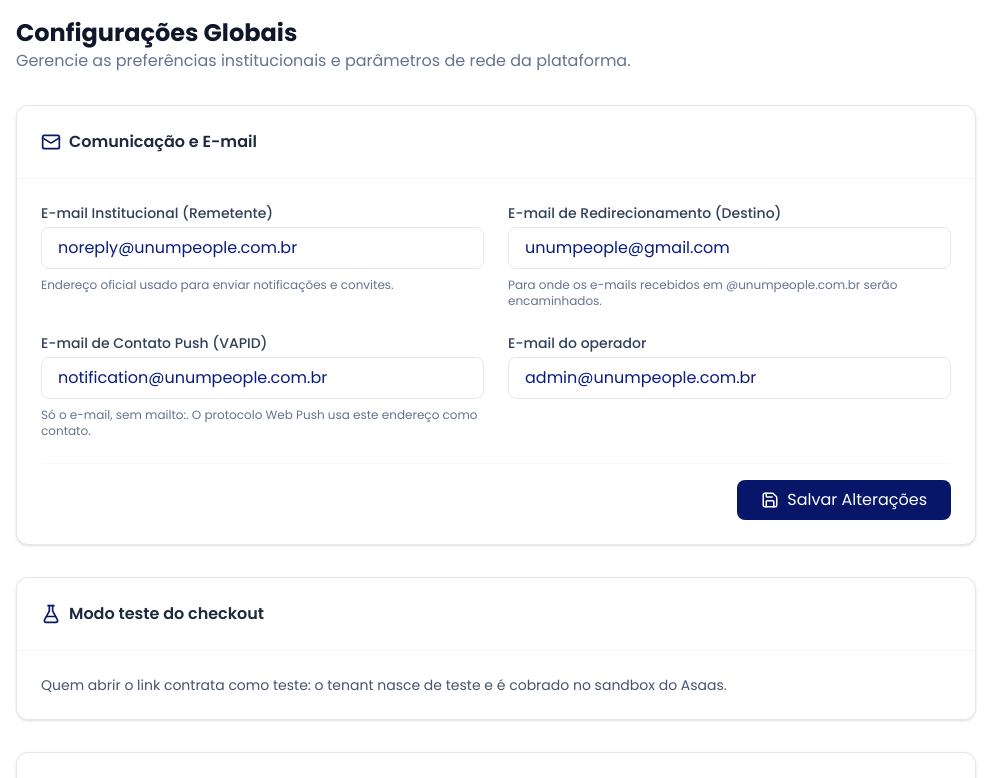
Test: SettingsPage - E-mail de contato push (VAPID) › recusa valor com mailto: com erro acessível e não salva
Expected: the heading "Configurações Globais" is shown, [16,16,297,49]
Type "mailto:outro@unumpeople.com.br" into the field labelled "E-mail de Contato Push (VAPID)".
click(262, 378); type("mailto:outro@unumpeople.com.br")  # box [41,357,484,399]
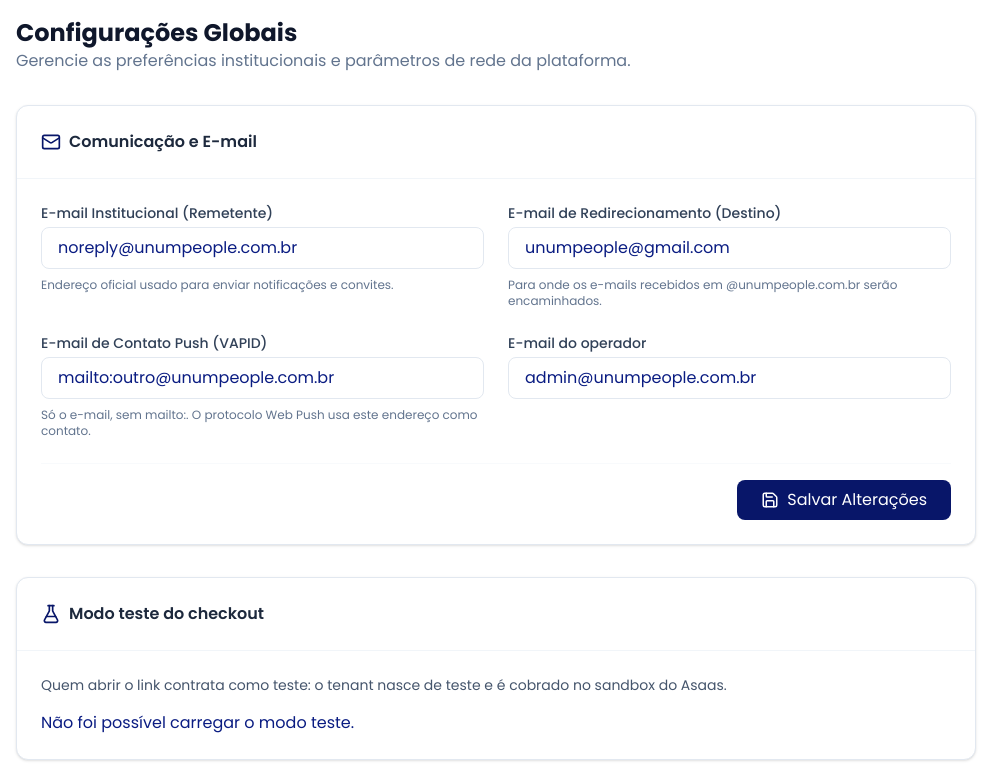
Submit the form named "salvar alterações", box [17,179,975,544]
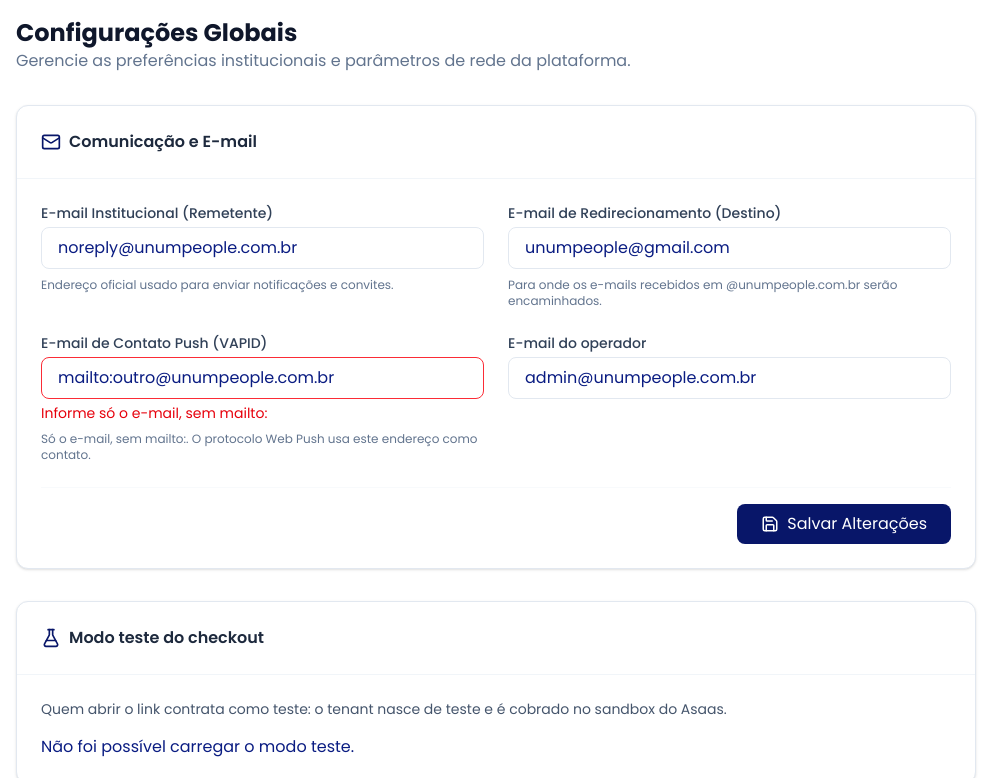
Expected: the text "Informe só o e-mail, sem mailto:" is shown, [41,403,267,423]
